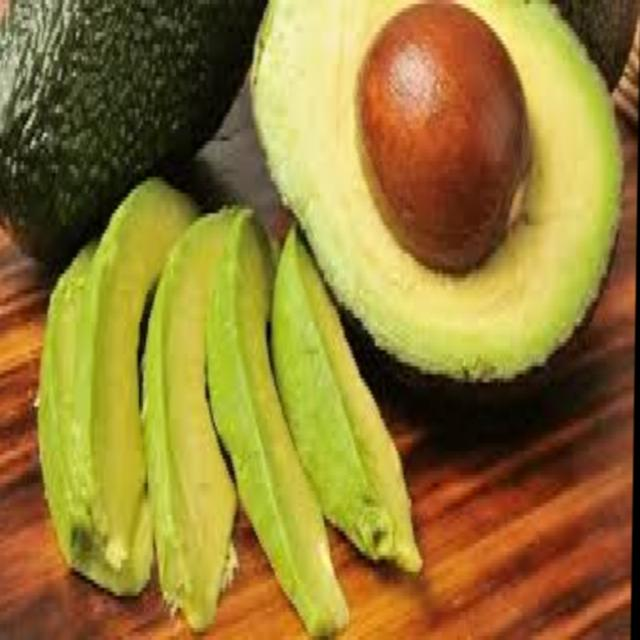Bo: (29, 165, 442, 636), (245, 0, 625, 403)
